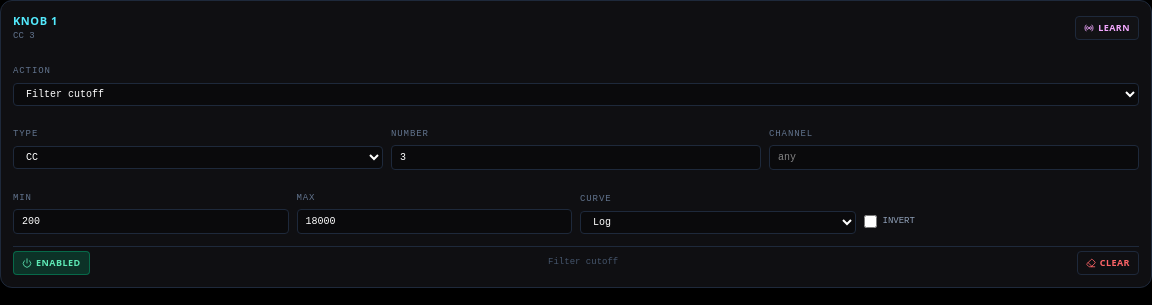
Test: ControllerAssignPanel › edits the selected binding action
Expected: the text "knob 1" is shown, [13,13,58,30]
Select "Transport · Play" in the dropdown labelled "Action": (576, 94) [13,83,1139,106]
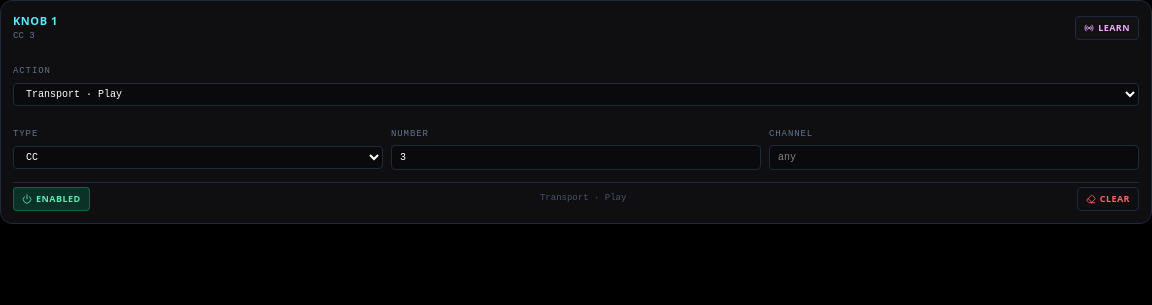
Now the text "Min" is gone
